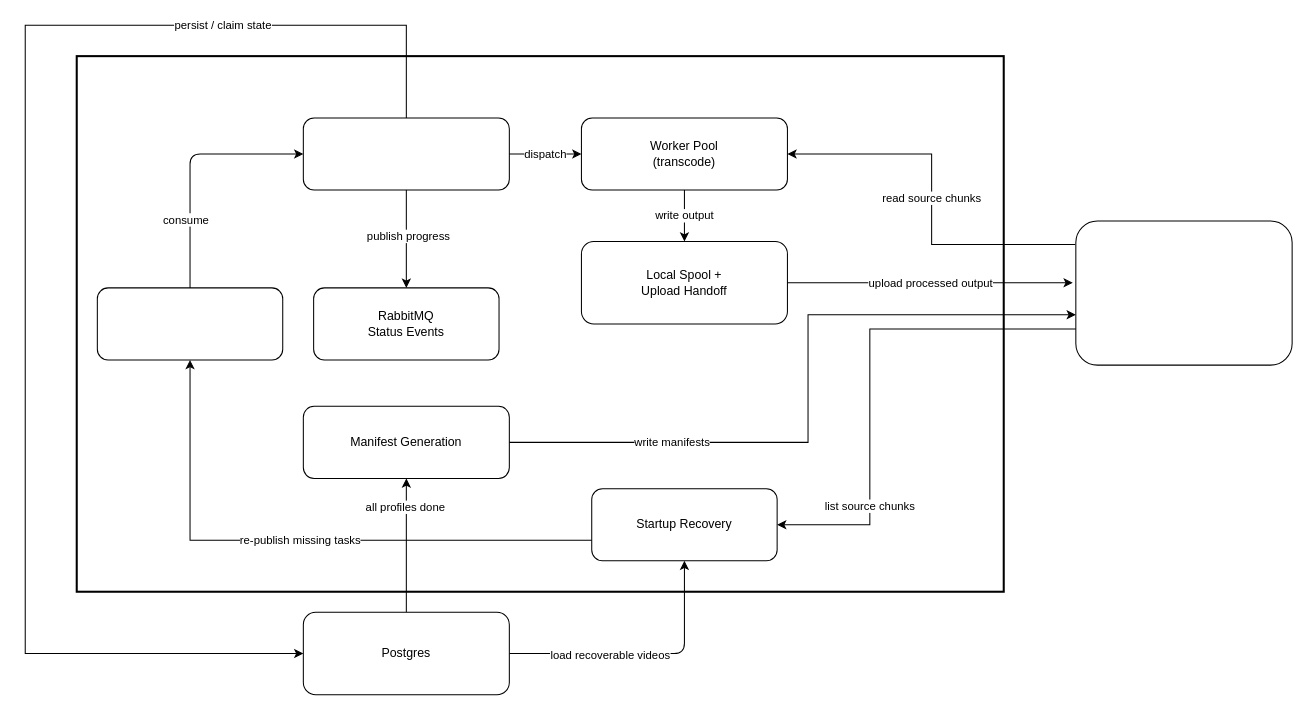
Image size: 1310x713. Some labels were removed from this diagram. The centre of each missing label's shape, as x and y in pixels:
MinIO / S3 source chunks processed segments manifests: the point at 1183,292
Processing Runtime: the point at 405,153
RabbitMQ Transcode Tasks: the point at 189,323
